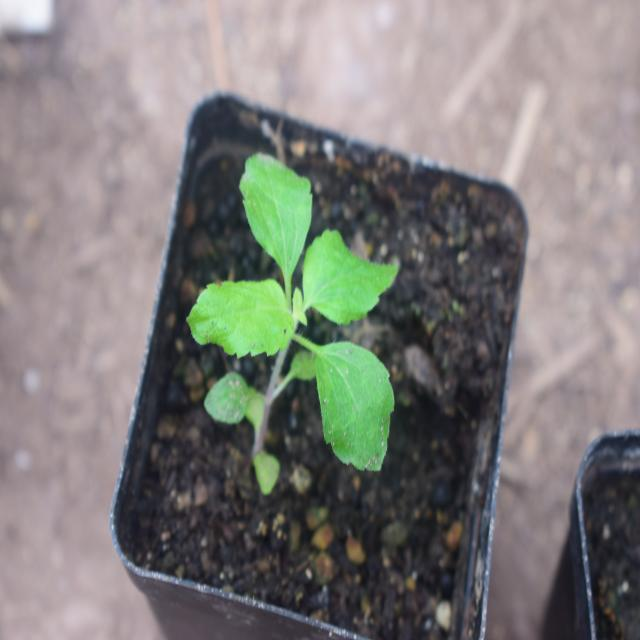billygoat_weed: (194, 153, 416, 487)
